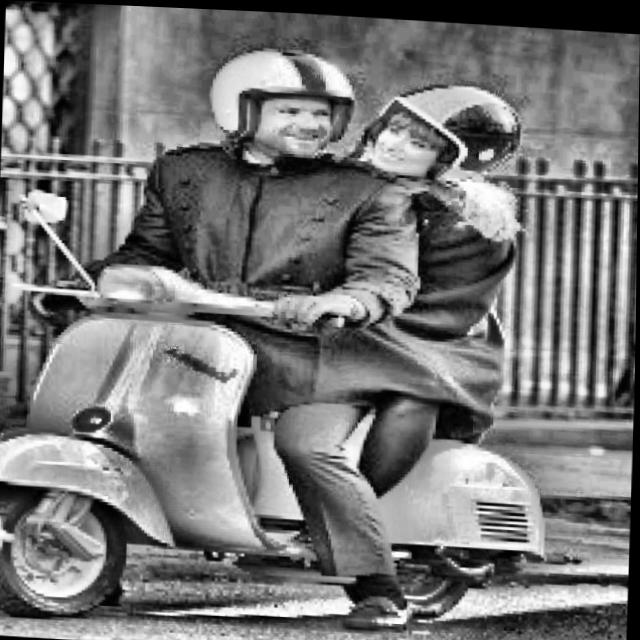motorcycle: (0, 177, 570, 640)
